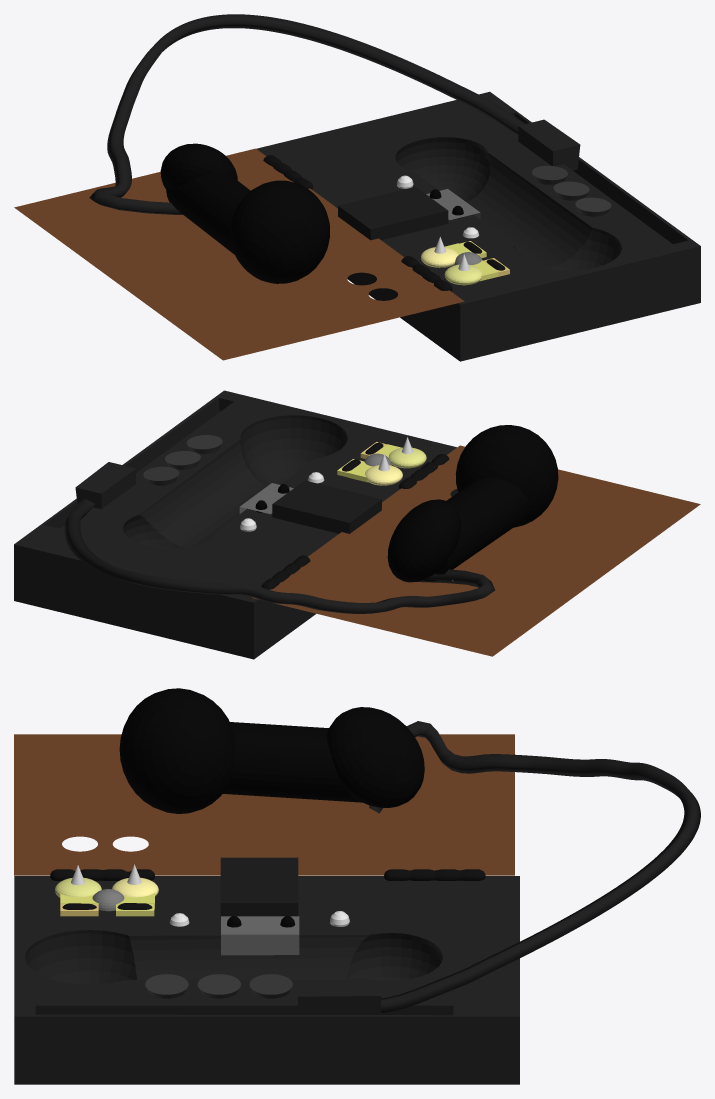
The model's file is ТЕлефон топчик.fbx.
The picture shows the model from 3 angles, top to bottom: view 1: azimuth 30°, elevation 25°; view 2: azimuth 150°, elevation 25°; view 3: azimuth 270°, elevation 25°; orthographic projection. The views are drawn at different scales.
Visible parts, largest first — view 1: Cube, Plane, Catenary, Sphere, Cube.006, Cylinder, Sphere.001, Cube.001, Mball.001, Plane.001, Sphere.006, Sphere.007 (+3 smaller); view 2: Cube, Plane, Catenary, Sphere, Cylinder, Sphere.001, Cube.006, Cube.001, Mball.001, Plane.001, Sphere.007, Sphere.006 (+3 smaller); view 3: Cube, Plane, Sphere, Catenary, Cylinder, Sphere.001, Cube.006, Cube.001, Plane.001, Mball.001, Cone.002, Cone.001 (+3 smaller).
Part boxes in pixels (bbox=[...]): Cube: bbox=[256, 91, 700, 361]; Plane: bbox=[14, 148, 464, 360]; Catenary: bbox=[89, 14, 524, 214]; Sphere: bbox=[230, 180, 329, 283]; Cube.006: bbox=[338, 186, 448, 240]; Cylinder: bbox=[166, 172, 250, 254]; Sphere.001: bbox=[160, 143, 237, 189]; Cube.001: bbox=[518, 119, 580, 170]; Mball.001: bbox=[263, 155, 505, 291]; Plane.001: bbox=[426, 189, 480, 220]; Sphere.006: bbox=[444, 264, 482, 285]; Sphere.007: bbox=[421, 247, 458, 267]; Cube: bbox=[14, 390, 457, 659]; Plane: bbox=[252, 445, 700, 656]; Catenary: bbox=[64, 498, 495, 613]; Sphere: bbox=[455, 425, 558, 527]; Cylinder: bbox=[423, 477, 530, 581]; Sphere.001: bbox=[387, 499, 460, 582]; Cube.006: bbox=[272, 480, 381, 533]; Cube.001: bbox=[75, 462, 135, 509]; Mball.001: bbox=[261, 442, 449, 589]; Plane.001: bbox=[239, 483, 293, 514]; Sphere.007: bbox=[365, 465, 402, 485]; Sphere.006: bbox=[388, 447, 426, 468]; Cube: bbox=[14, 876, 519, 1084]; Plane: bbox=[14, 734, 514, 875]; Sphere: bbox=[119, 688, 234, 813]; Catenary: bbox=[369, 721, 700, 1012]; Cylinder: bbox=[223, 722, 362, 802]; Sphere.001: bbox=[327, 707, 424, 807]; Cube.006: bbox=[220, 857, 298, 918]; Cube.001: bbox=[298, 980, 380, 1014]; Plane.001: bbox=[221, 916, 299, 955]; Mball.001: bbox=[50, 869, 485, 909]; Cone.002: bbox=[145, 974, 188, 998]; Cone.001: bbox=[249, 974, 292, 998].
Bounding box in the file's own units: 1603 × 493 × 1665.
